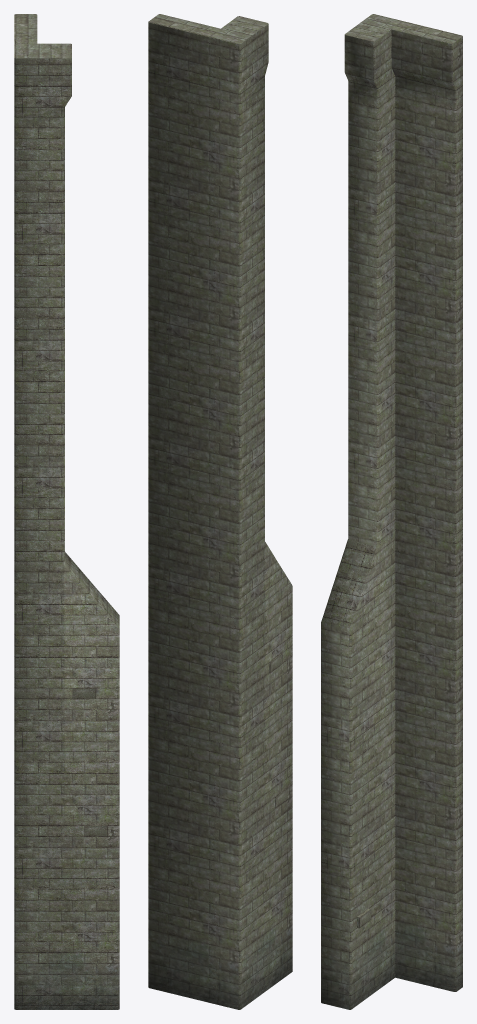
Rendered from wallcorner2.fbx.
3 renders of one model, left to right at view 1: azimuth 90°, elevation 25°; view 2: azimuth 150°, elevation 25°; view 3: azimuth 330°, elevation 25°, orthographic.
Visible parts, largest first — view 1: Mesh Object; view 2: Mesh Object; view 3: Mesh Object.
Boxes of the visible parts, left/top/right/bottom form: Mesh Object: left=14, top=14, right=119, bottom=1009; Mesh Object: left=148, top=14, right=292, bottom=1009; Mesh Object: left=321, top=14, right=462, bottom=1009.
Size of the model in its own units: 1.52 by 15 by 1.5.
